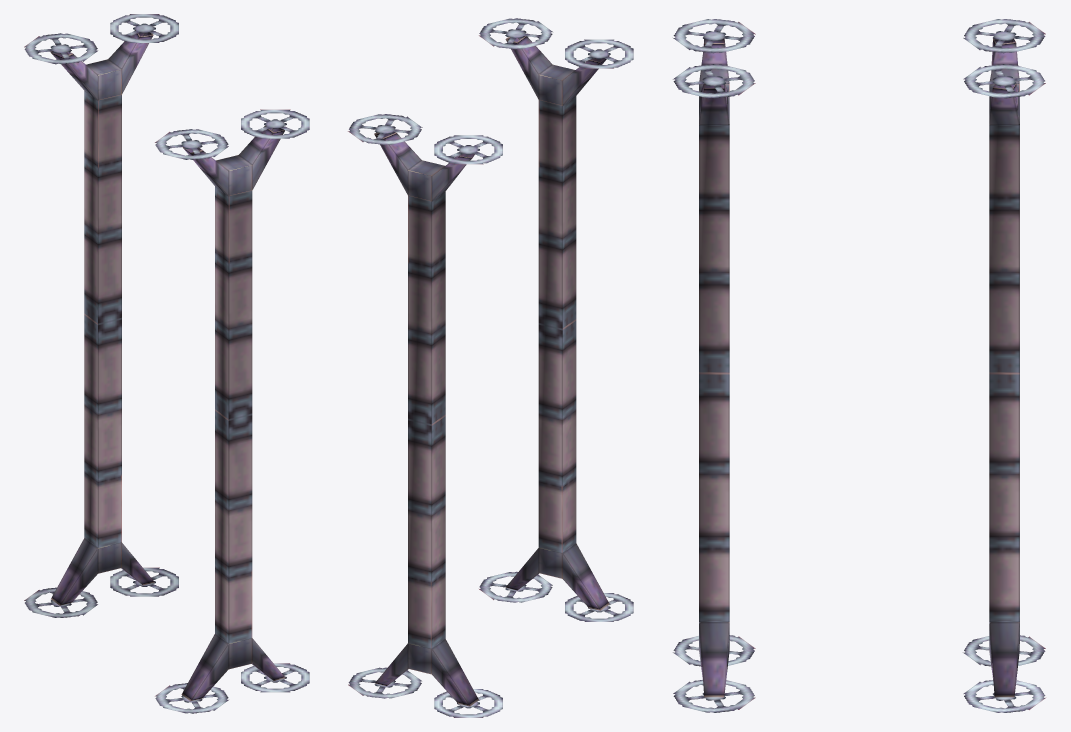
3 views of the same model, side by side, from view 1: azimuth 30°, elevation 25°; view 2: azimuth 150°, elevation 25°; view 3: azimuth 270°, elevation 25° (orthographic). The views are drawn at different scales.
Visible parts, largest first — view 1: T1L7M003_4; view 2: T1L7M003_4; view 3: T1L7M003_4.
Part boxes in pixels (bbox=[...]): T1L7M003_4: bbox=[24, 14, 309, 713]; T1L7M003_4: bbox=[348, 18, 633, 717]; T1L7M003_4: bbox=[673, 19, 1045, 712].
Size of the model in its own units: 1.17 by 3.76 by 2.19.
